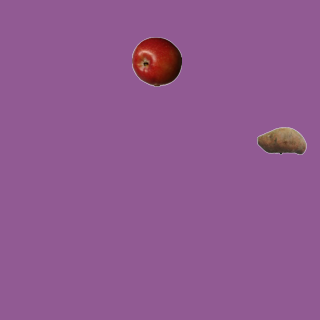Apple Braeburn: (131, 36, 181, 86)
Potato Sweet: (256, 115, 306, 165)
